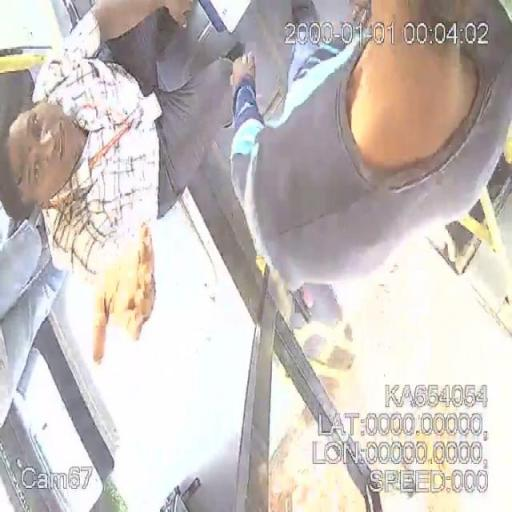persona: (227, 0, 511, 295), (0, 0, 225, 368)
